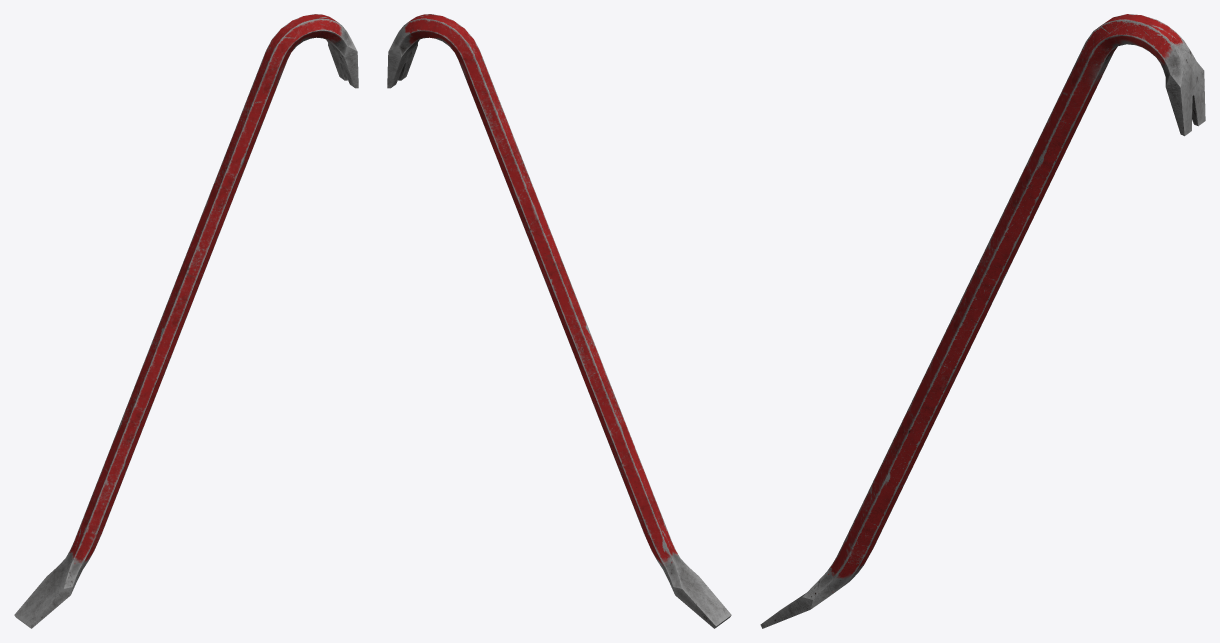
Rendered from crowbar_low_poly__free.glb.
3 views of the same model, side by side, from view 1: azimuth 30°, elevation 25°; view 2: azimuth 150°, elevation 25°; view 3: azimuth 330°, elevation 25° (orthographic). The views are drawn at different scales.
Parts seen in each view (by area): view 1: crowbar_low; view 2: crowbar_low; view 3: crowbar_low.
Boxes of the visible parts, <box> form: crowbar_low: <box>14,14,358,628</box>; crowbar_low: <box>387,14,731,628</box>; crowbar_low: <box>760,14,1205,628</box>.
Bounding box in the file's own units: 0.802 × 1.25 × 0.0773.
1 material, 1 textured.
